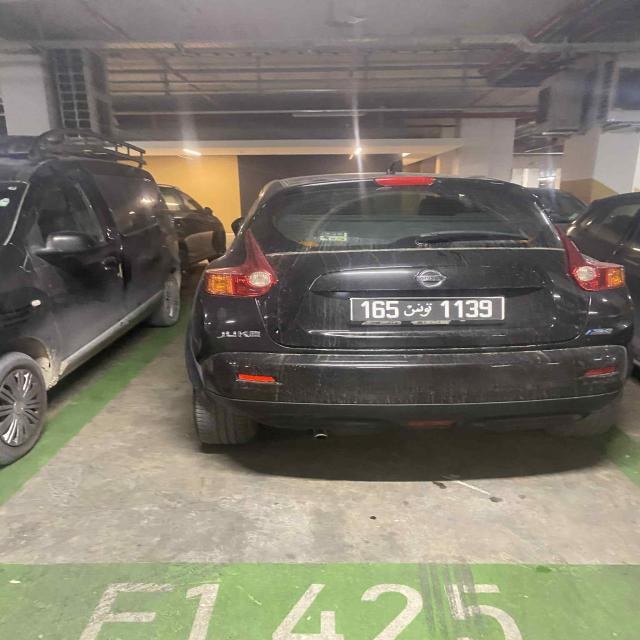licence plate: (351, 298, 502, 320)
